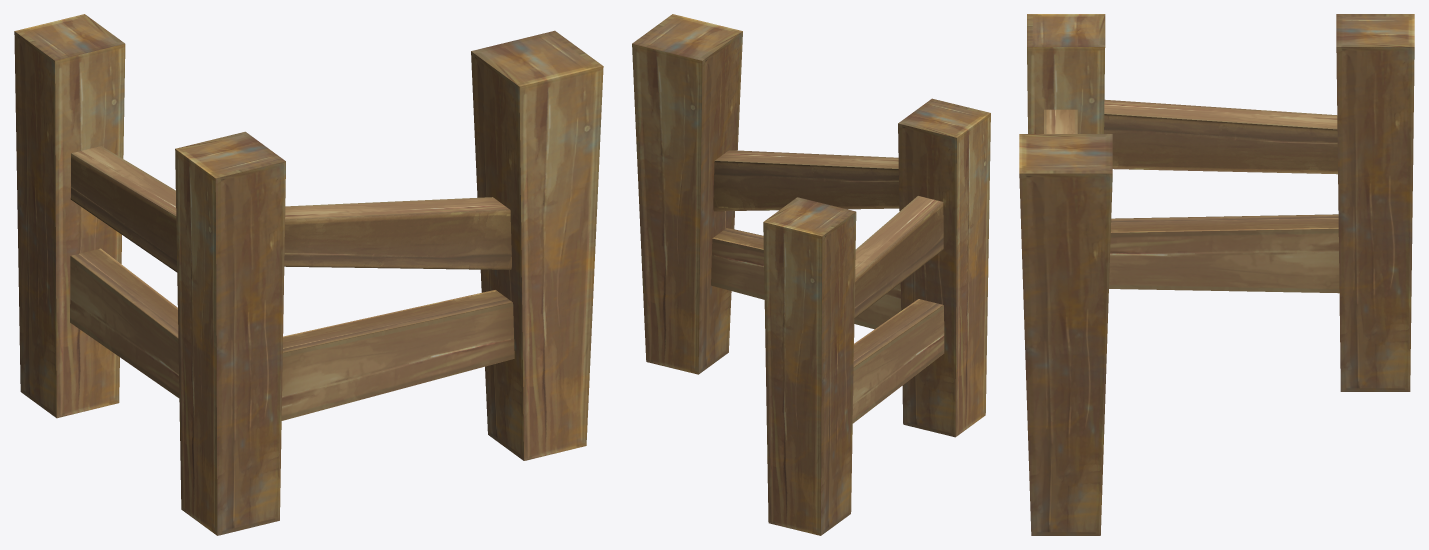
File: fence_corner.FBX
3 views of the same model, side by side, from view 1: azimuth 30°, elevation 25°; view 2: azimuth 150°, elevation 25°; view 3: azimuth 270°, elevation 25° (orthographic). The views are drawn at different scales.
Parts seen in each view (by area): view 1: fence_corner; view 2: fence_corner; view 3: fence_corner.
Part boxes in pixels (x1=…): fence_corner: x1=14, y1=14, x2=603, y2=535; fence_corner: x1=632, y1=14, x2=990, y2=535; fence_corner: x1=1019, y1=14, x2=1414, y2=535.
Size of the model in its own units: 216 by 206 by 200.
Materials: 2 (2 with a texture image).
